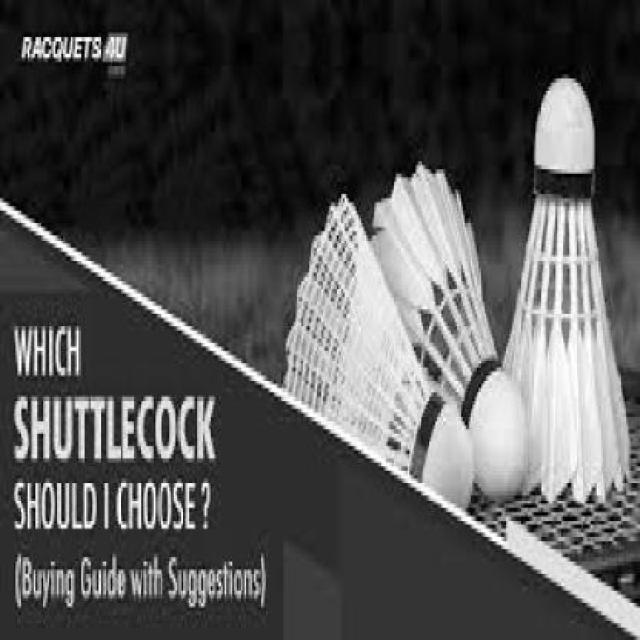Shuttlecock: (502, 69, 632, 508), (366, 163, 526, 500)
